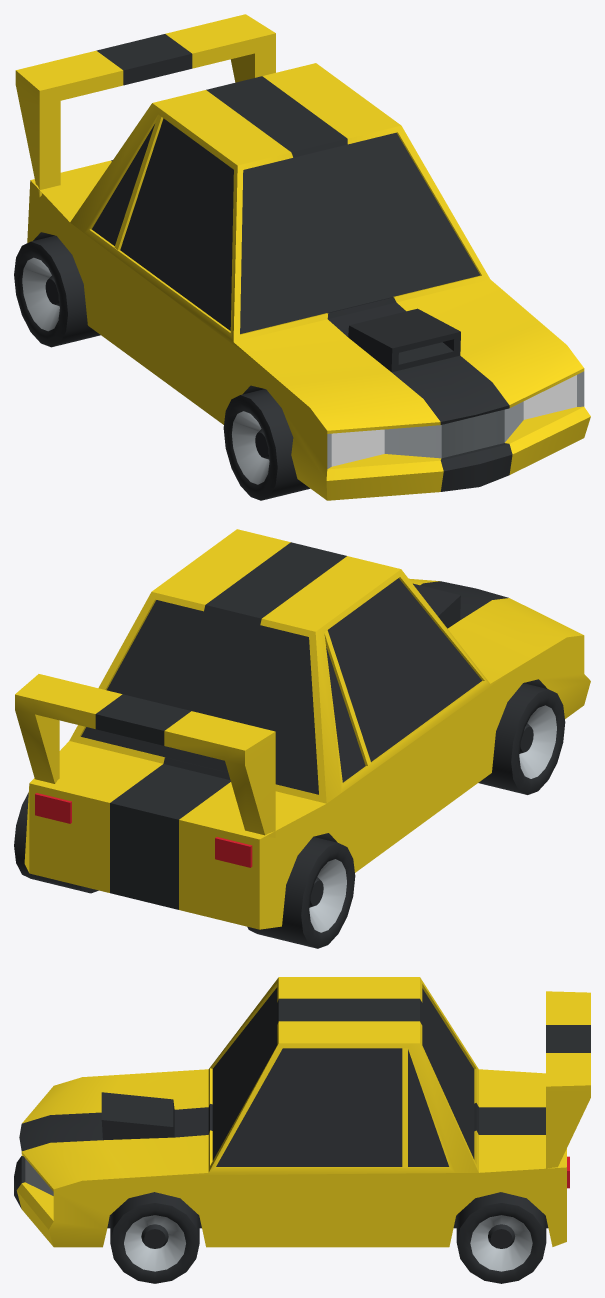
File: Car_8.fbx
3 renders of one model, top to bottom at view 1: azimuth 30°, elevation 25°; view 2: azimuth 150°, elevation 25°; view 3: azimuth 270°, elevation 25°, orthographic. The views are drawn at different scales.
Visible parts, largest first — view 1: Car8, Car8Wheel4, Car8Wheel2; view 2: Car8, Car8Wheel4, Car8Wheel2, Car8Wheel3; view 3: Car8, Car8Wheel3, Car8Wheel1.
Boxes of the visible parts, x1=… form: Car8: x1=15, y1=14, x2=590, y2=500; Car8Wheel4: x1=14, y1=235, x2=100, y2=347; Car8Wheel2: x1=223, y1=389, x2=310, y2=500; Car8: x1=15, y1=529, x2=590, y2=929; Car8Wheel4: x1=247, y1=837, x2=355, y2=948; Car8Wheel2: x1=478, y1=683, x2=565, y2=794; Car8Wheel3: x1=14, y1=792, x2=98, y2=893; Car8: x1=14, y1=977, x2=590, y2=1247; Car8Wheel3: x1=456, y1=1192, x2=546, y2=1283; Car8Wheel1: x1=110, y1=1192, x2=199, y2=1283.
Size of the model in its own units: 270 by 232 by 562.
1 material, 1 textured.
